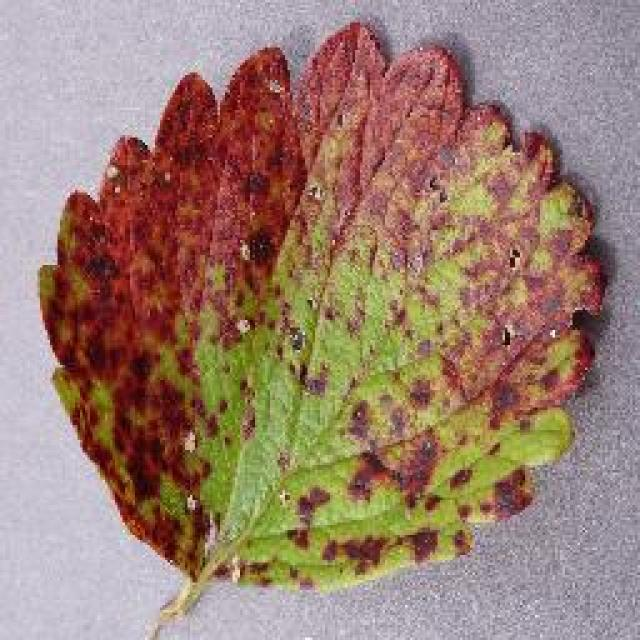Strawberry leaf scorch: (95, 59, 587, 538)
